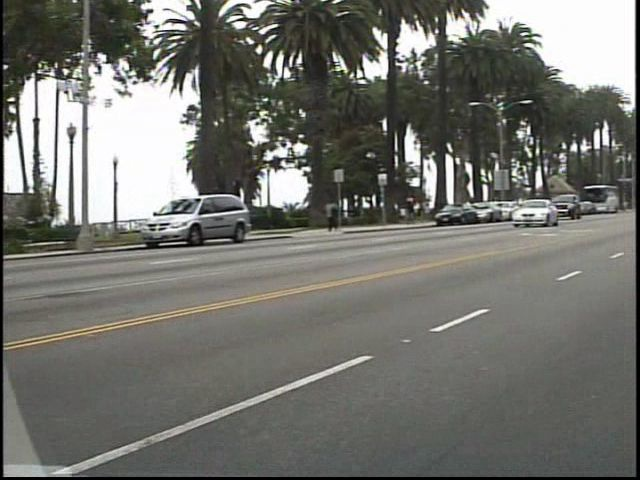person: (330, 197, 352, 237), (411, 191, 430, 225)
